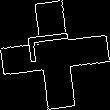L_E: (28, 36, 82, 74)
